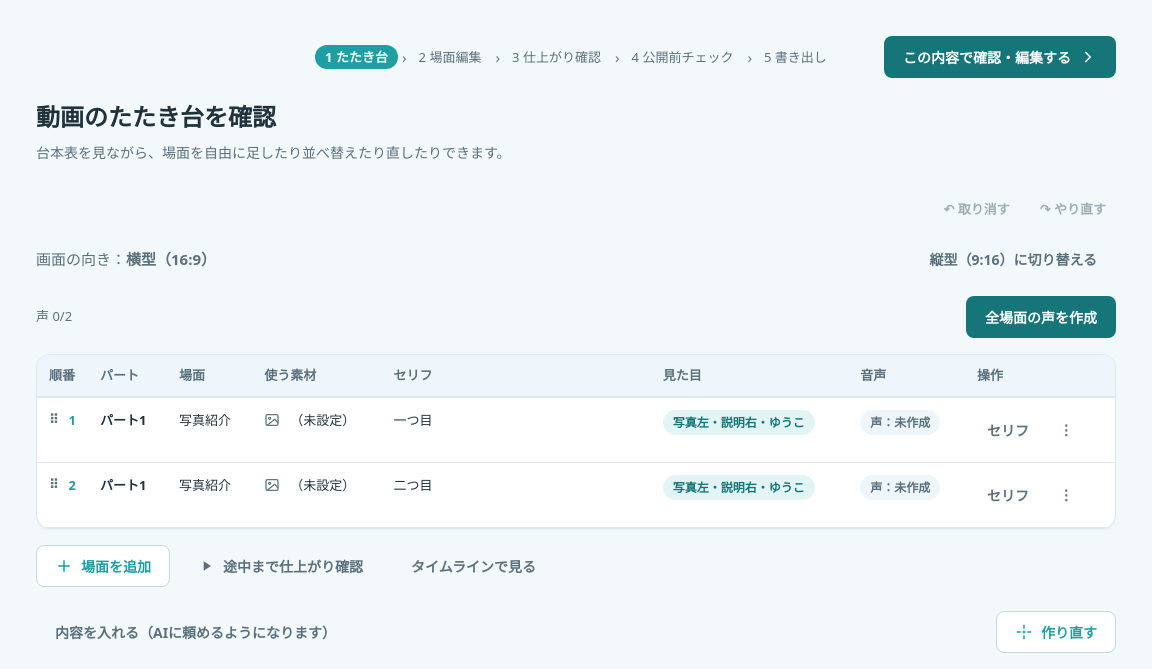
Scenario: 台本表の行の操作 › 右クリックでも同じメニューが開く
Right-click the text "二つ目".
right_click(576, 495)  # box [37,462,1115,527]
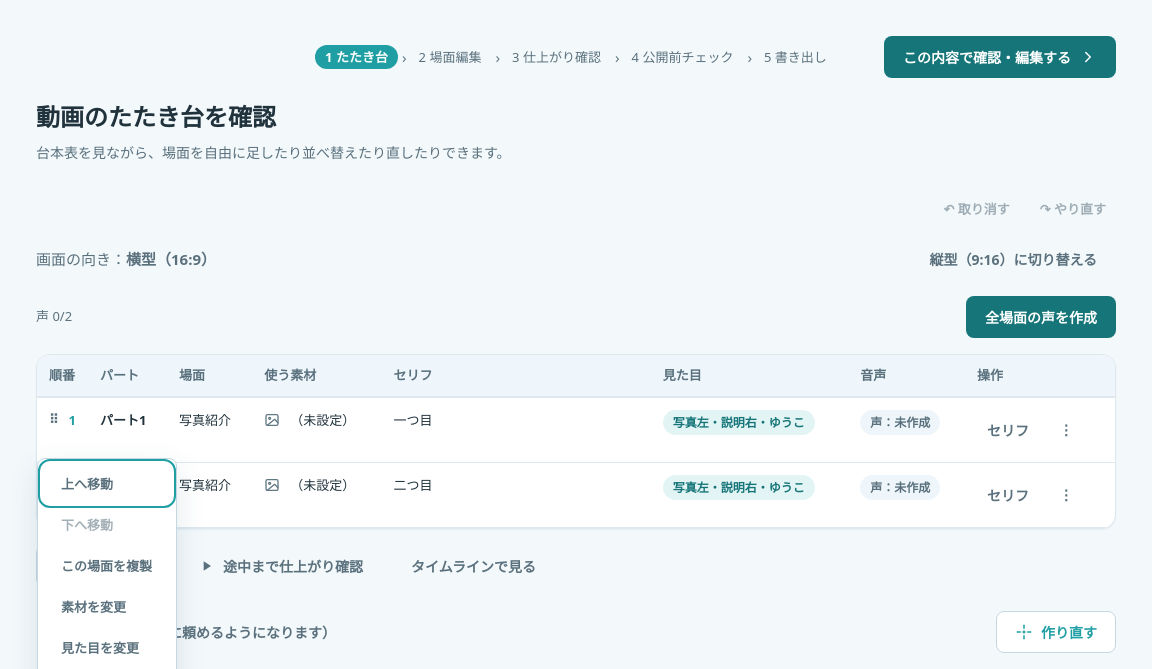
Result: the menu item "上へ移動" is enabled at [42,463,172,504]
Result: the menu item "下へ移動" is disabled at [42,504,172,545]
